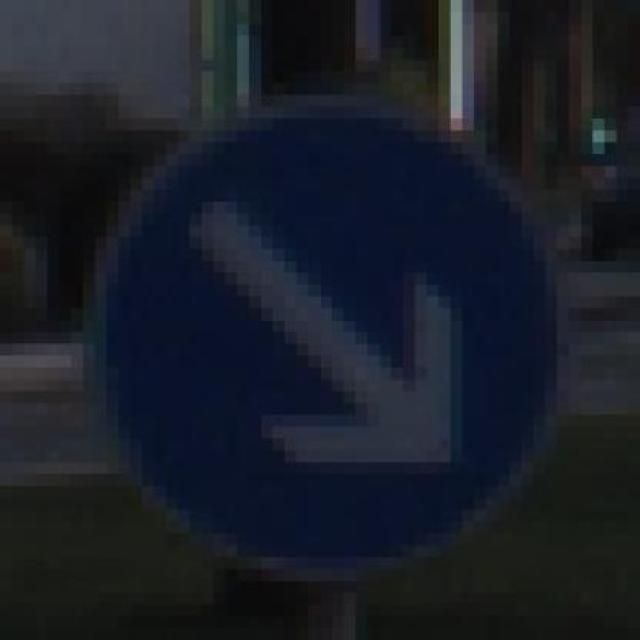Keep-Right: (70, 94, 582, 580)
